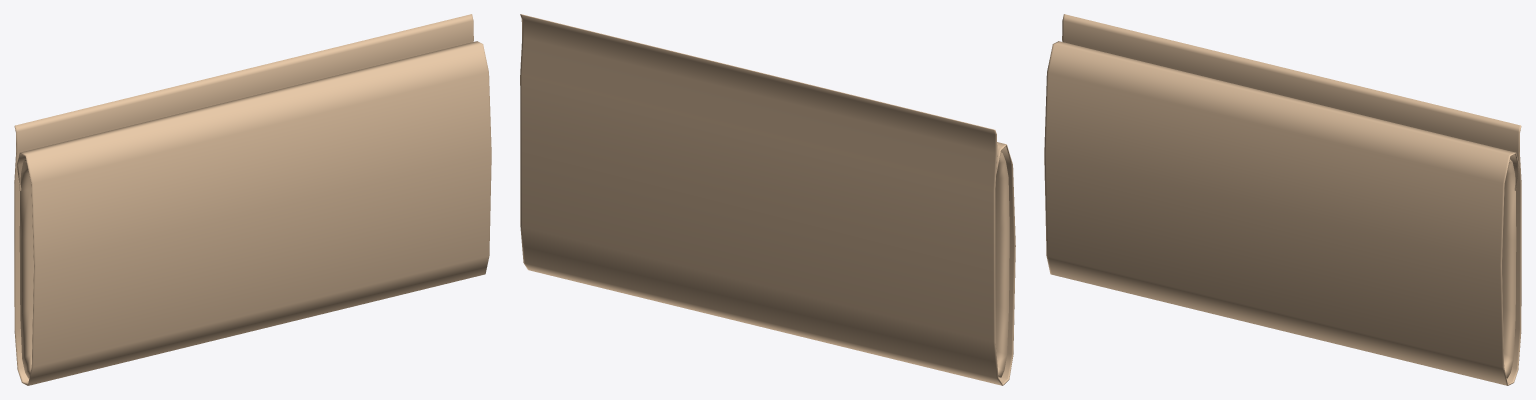
Rendered from MeshCylinder_039_0.obj.
3 renders of one model, left to right at view 1: azimuth 30°, elevation 25°; view 2: azimuth 150°, elevation 25°; view 3: azimuth 330°, elevation 25°, orthographic. The views are drawn at different scales.
Visible parts, largest first — view 1: Cylinder_039; view 2: Cylinder_039; view 3: Cylinder_039.
Part boxes in pixels (x1,y1,x2,y2): Cylinder_039: (14,14,491,385); Cylinder_039: (520,14,1015,385); Cylinder_039: (1044,14,1521,385).
Size of the model in its own units: 0.368 by 0.1937 by 0.0279.
